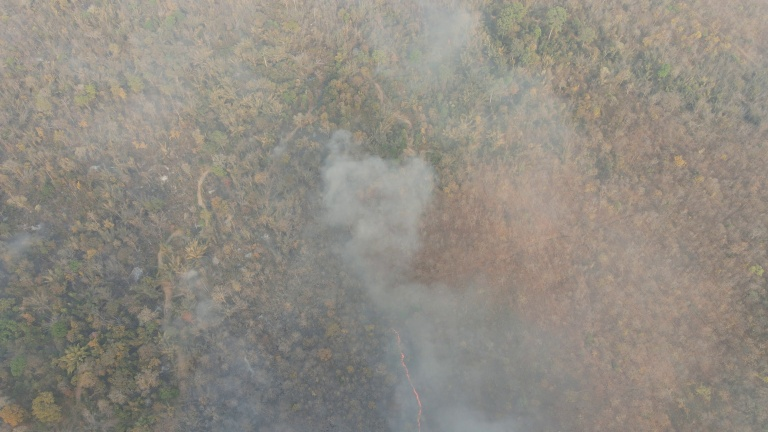fire: (391, 326, 431, 432)
smoke: (326, 147, 428, 306), (411, 288, 517, 432)
